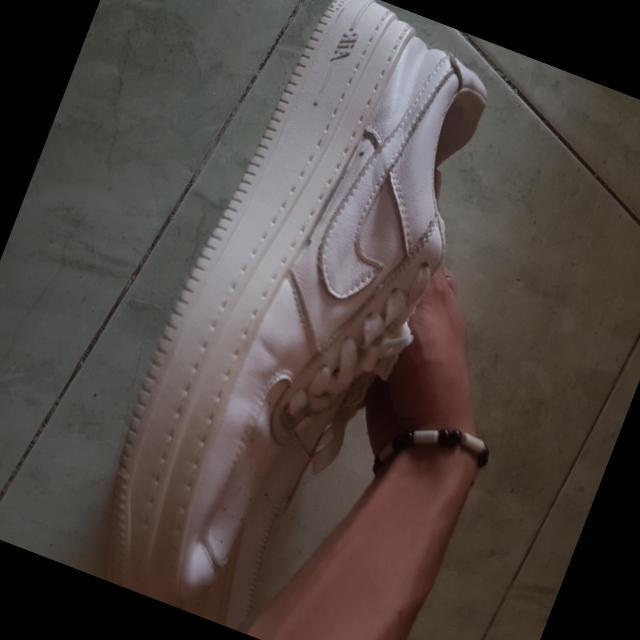nike fake air force: (119, 0, 568, 640)
